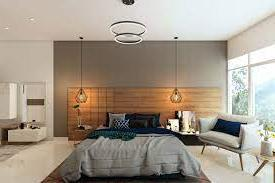bed: (79, 110, 194, 180)
light: (165, 27, 184, 109), (70, 25, 90, 102), (29, 14, 36, 25), (5, 25, 11, 33)
sofa: (196, 112, 259, 170)
table: (5, 127, 47, 146), (249, 148, 275, 178), (170, 126, 202, 148), (72, 125, 95, 143)
